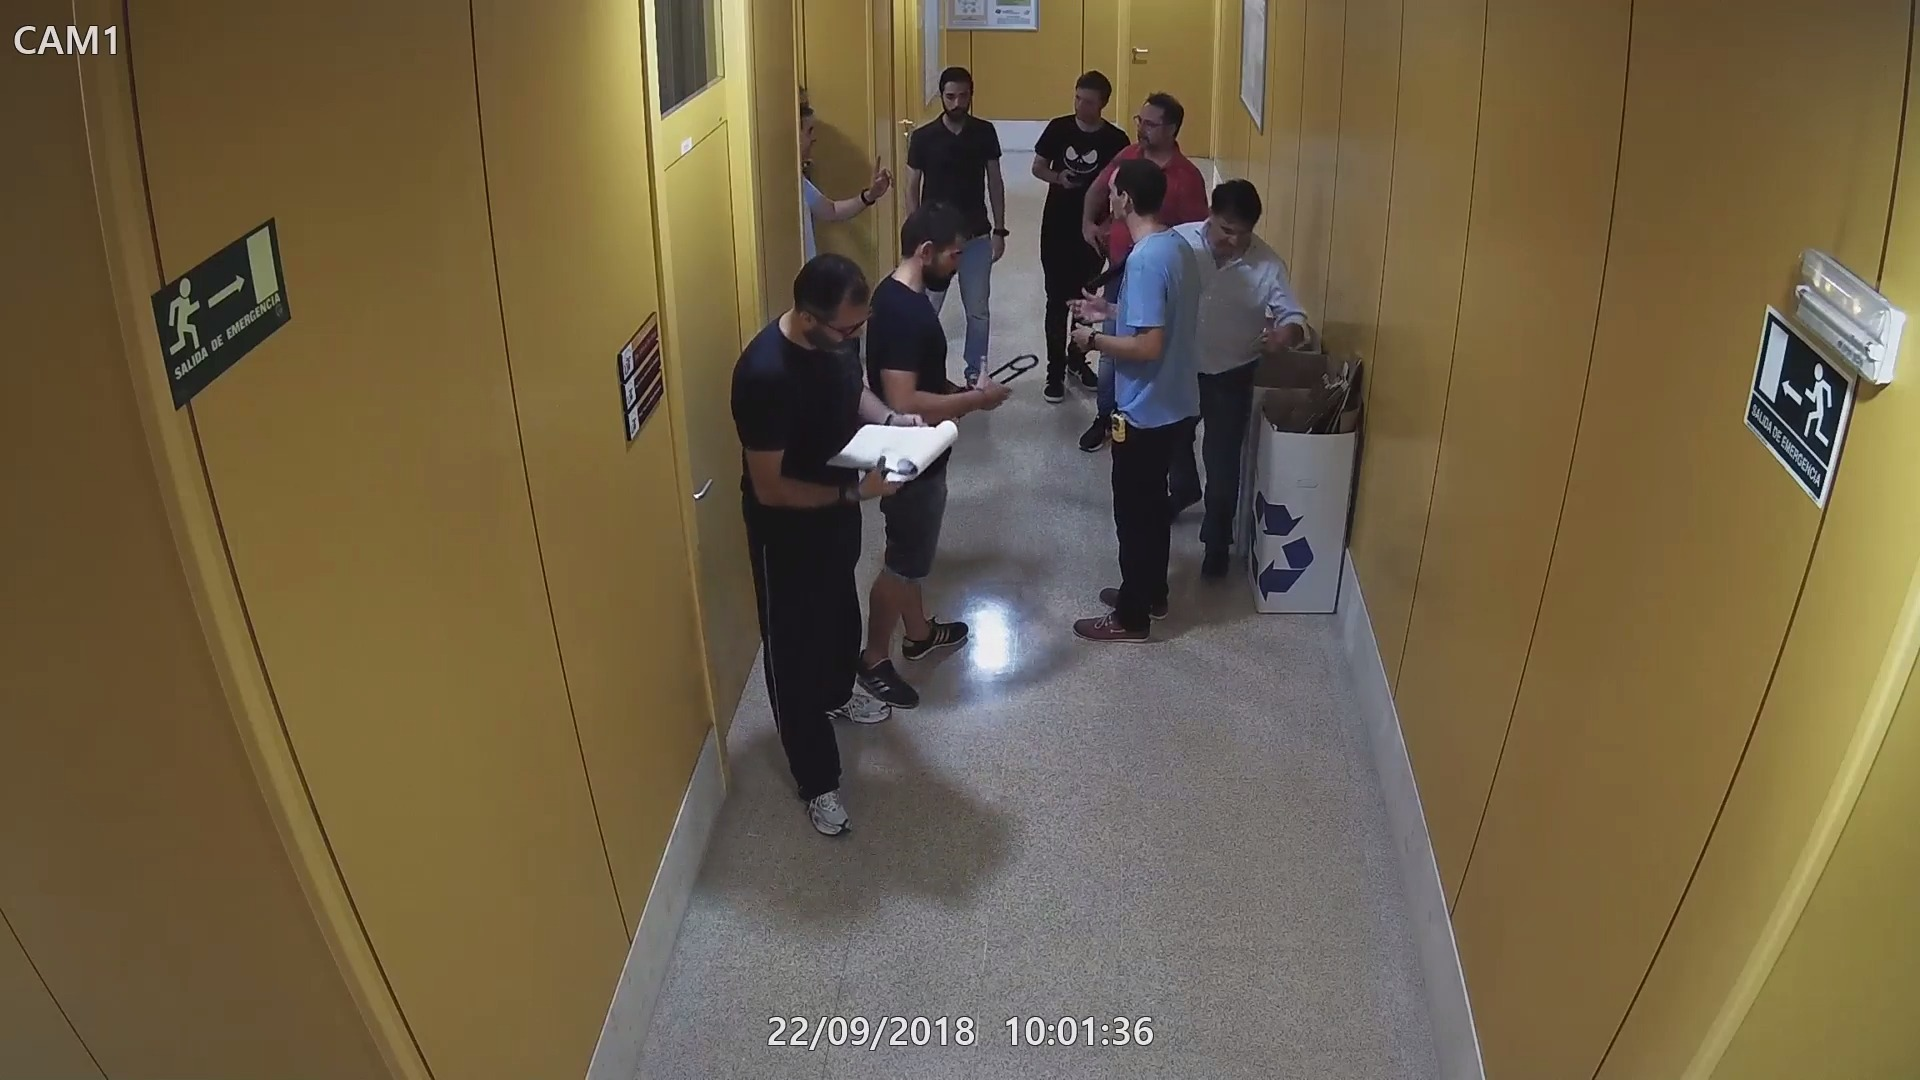Short_rifle: (947, 353, 1040, 397), (1083, 244, 1138, 294)
